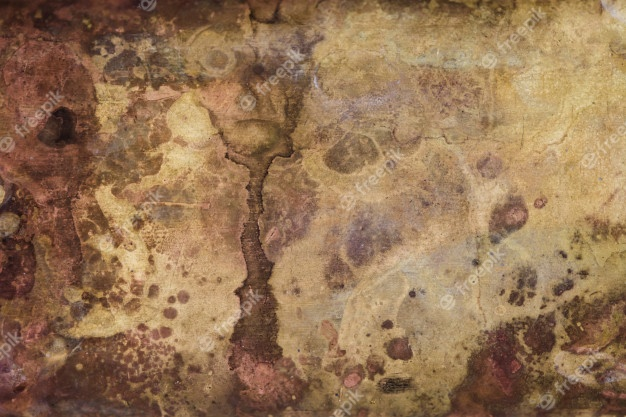rust: (6, 19, 121, 406), (226, 126, 292, 411), (441, 328, 550, 409)
